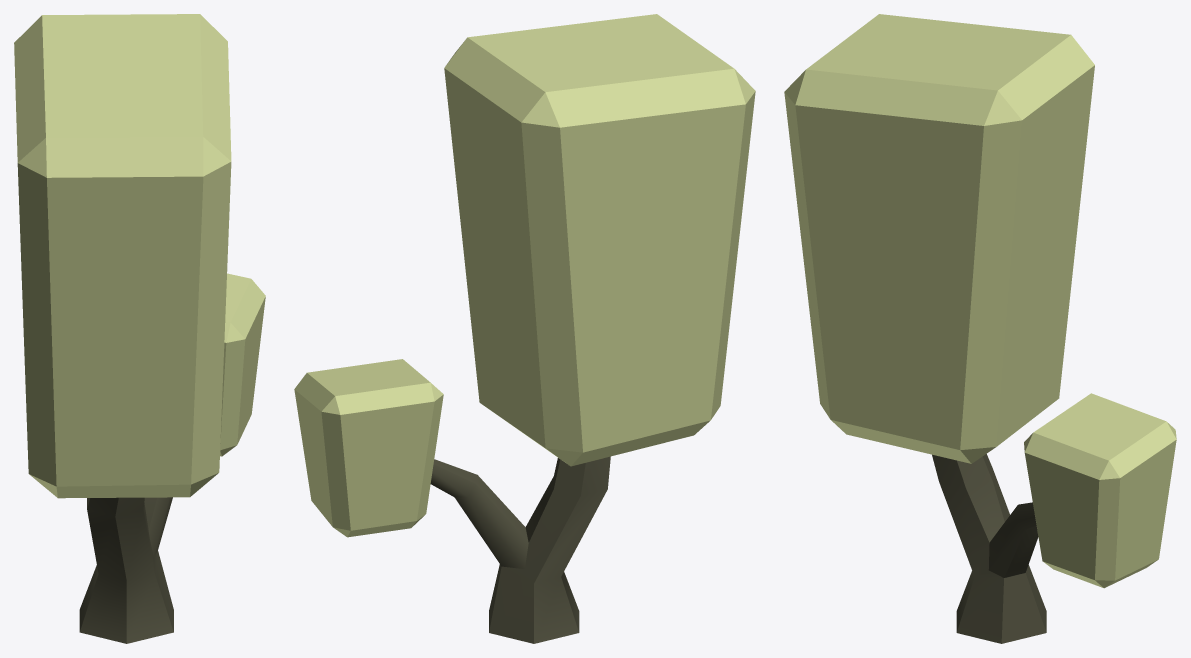
Rendered from Tree3.fbx.
3 renders of one model, left to right at view 1: azimuth 30°, elevation 25°; view 2: azimuth 150°, elevation 25°; view 3: azimuth 270°, elevation 25°, orthographic. The views are drawn at different scales.
Parts seen in each view (by area): view 1: Tree3Canopy1, Tree3Trunk, Tree3Canopy2; view 2: Tree3Canopy1, Tree3Canopy2, Tree3Trunk; view 3: Tree3Canopy1, Tree3Canopy2, Tree3Trunk.
Boxes of the visible parts, x1,y1,x2,y2 form: Tree3Canopy1: (14, 14, 231, 498); Tree3Trunk: (79, 497, 173, 643); Tree3Canopy2: (220, 273, 265, 456); Tree3Canopy1: (444, 14, 755, 466); Tree3Canopy2: (294, 359, 443, 537); Tree3Trunk: (430, 456, 610, 643); Tree3Canopy1: (784, 14, 1094, 463); Tree3Canopy2: (1024, 393, 1176, 588); Tree3Trunk: (932, 454, 1046, 643).
Size of the model in its own units: 2.62 by 4.17 by 2.62.
